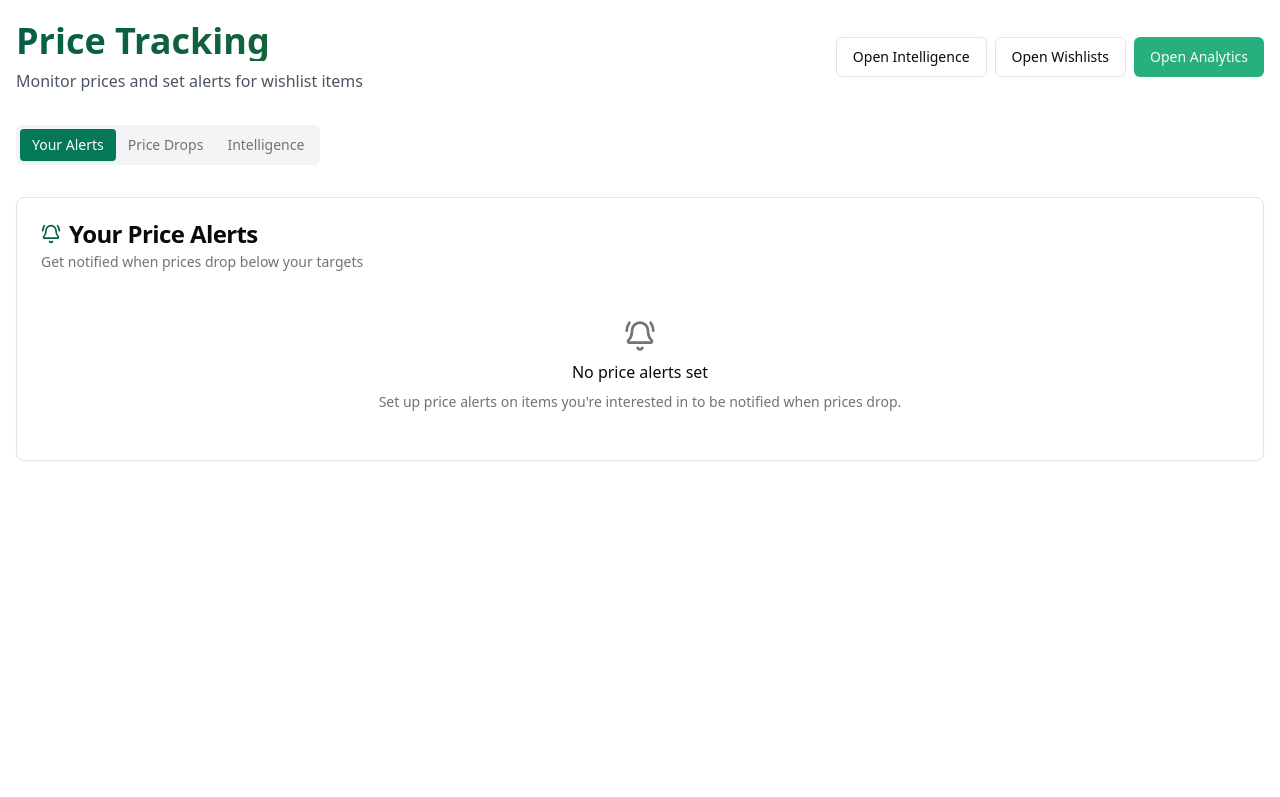
Test case: PriceTracking Page › shows empty states when no drops or volatility data exist
The image size is (1280, 797).
Click the tab "Price Drops": (166, 145) [116,129,215,161]
(page scrolled)
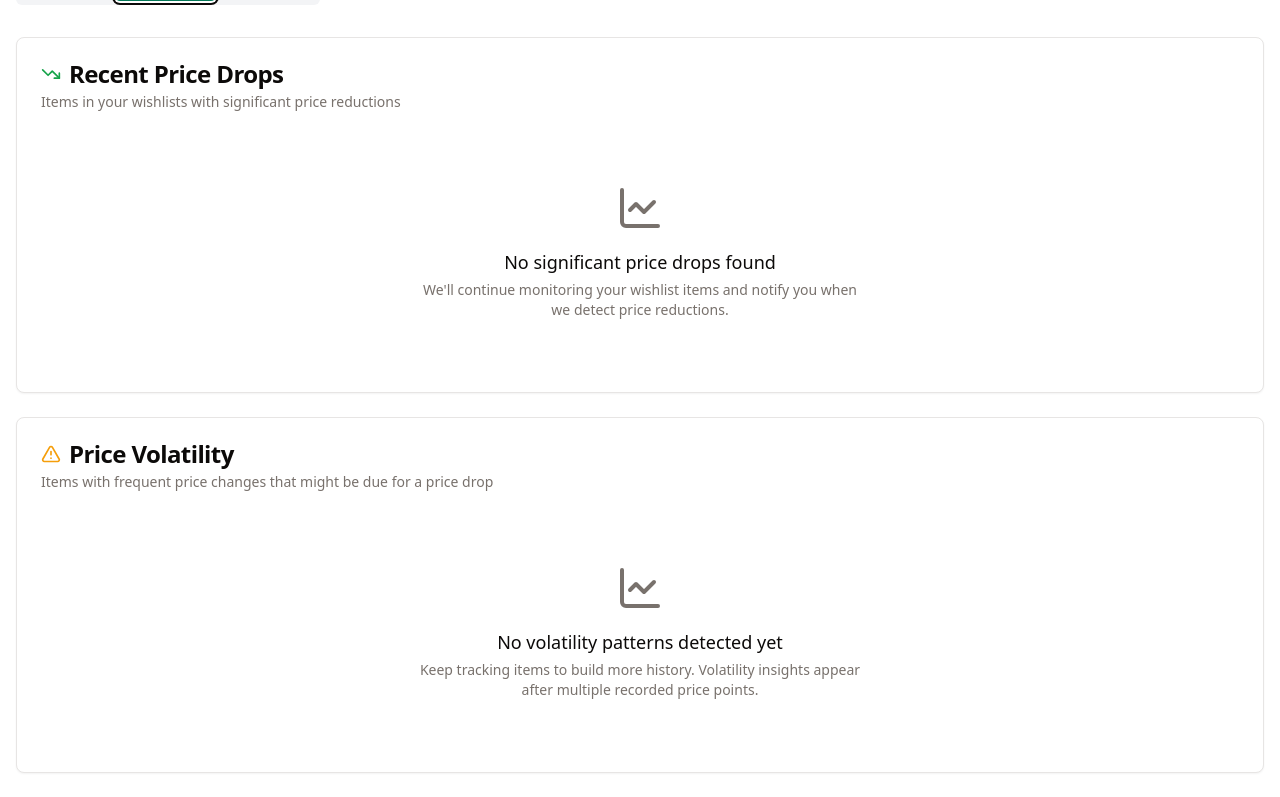
Result: the heading "No significant price drops found" is shown at [504,248,776,276]
Result: the heading "No volatility patterns detected yet" is shown at [497,628,783,656]
